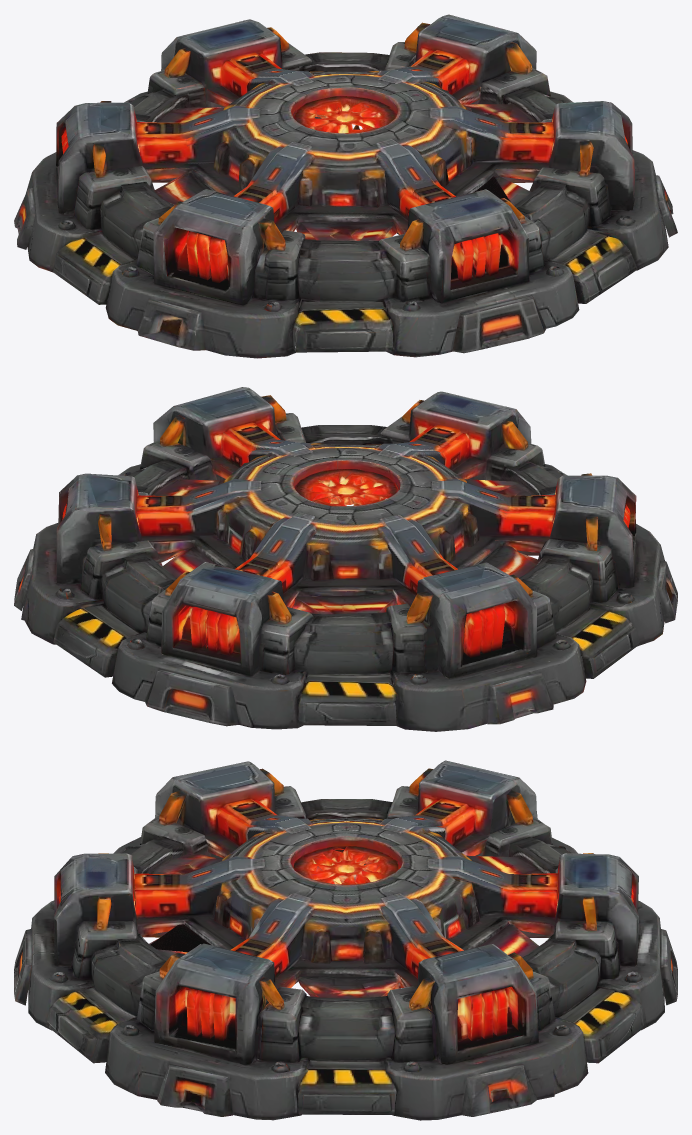
Rendered from emitter.glb.
3 renders of one model, top to bottom at view 1: azimuth 30°, elevation 25°; view 2: azimuth 150°, elevation 25°; view 3: azimuth 270°, elevation 25°, orthographic. The views are drawn at different scales.
Visible parts, largest first — view 1: mesh_node; view 2: mesh_node; view 3: mesh_node.
Boxes of the visible parts, <box> form: mesh_node: <box>14,14,677,358</box>; mesh_node: <box>14,387,677,731</box>; mesh_node: <box>14,760,677,1120</box>.
Size of the model in its own units: 0.9786 by 0.2046 by 0.998.
1 material, 1 textured.
